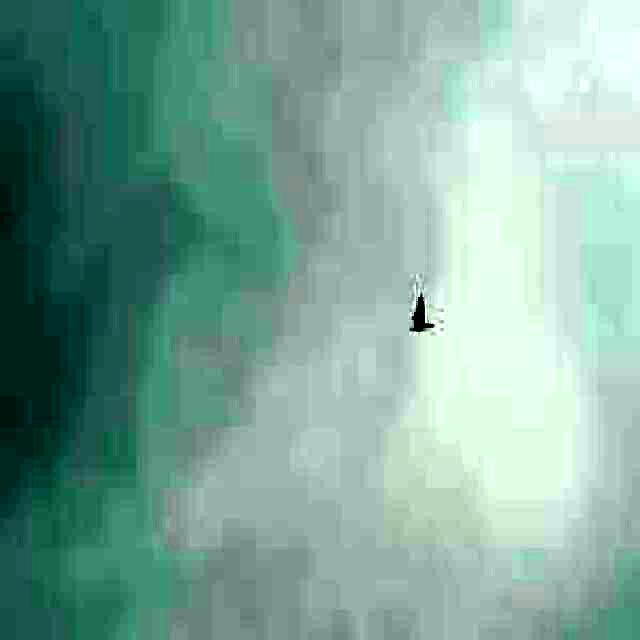bird: (408, 290, 432, 338)
